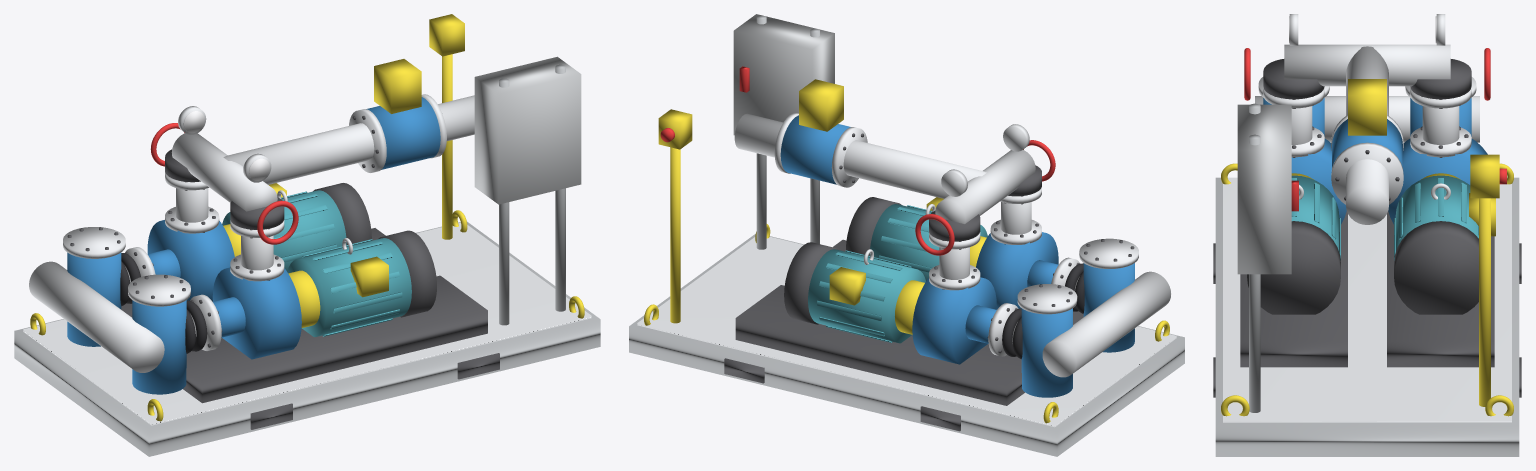
Rendered from pump_skid.glb.
The picture shows the model from 3 angles, left to right: view 1: azimuth 30°, elevation 25°; view 2: azimuth 150°, elevation 25°; view 3: azimuth 270°, elevation 25°; orthographic projection. The views are drawn at different scales.
Visible parts, largest first — view 1: Skid_ChannelFrame, Skid_DeckPlate, NEMA4X_VFDPanel, InertiaPad_A, CommonSuctionHeader, MainDischargeHeader, TEFC_Motor_A, PumpVolute_A, DischargeManifold, PumpVolute_B, BasketStrainer_A, Magmeter_Body (+26 smaller); view 2: Skid_ChannelFrame, Skid_DeckPlate, InertiaPad_B, NEMA4X_VFDPanel, MainDischargeHeader, CommonSuctionHeader, TEFC_Motor_B, PumpVolute_B, DischargeManifold, PumpVolute_A, BasketStrainer_B, Magmeter_Body (+27 smaller); view 3: Skid_DeckPlate, Skid_ChannelFrame, NEMA4X_VFDPanel, FanCowl_B, InertiaPad_A, InertiaPad_B, DischargeManifold, FanCowl_A, MainDischargeHeader, TEFC_Motor_B, EStop_Stanchion, Magmeter_Transmitter (+25 smaller).
Boxes of the visible parts, x1=… form: Skid_ChannelFrame: x1=14, y1=221, x2=600, y2=456; Skid_DeckPlate: x1=23, y1=222, x2=591, y2=425; NEMA4X_VFDPanel: x1=474, y1=56, x2=581, y2=204; InertiaPad_A: x1=183, y1=275, x2=487, y2=403; CommonSuctionHeader: x1=29, y1=261, x2=164, y2=372; MainDischargeHeader: x1=223, y1=95, x2=474, y2=184; TEFC_Motor_A: x1=287, y1=238, x2=411, y2=337; PumpVolute_A: x1=212, y1=267, x2=301, y2=359; DischargeManifold: x1=171, y1=133, x2=277, y2=211; PumpVolute_B: x1=147, y1=220, x2=234, y2=301; BasketStrainer_A: x1=132, y1=300, x2=186, y2=394; Magmeter_Body: x1=366, y1=97, x2=440, y2=169; Skid_ChannelFrame: x1=629, y1=234, x2=1184, y2=456; Skid_DeckPlate: x1=637, y1=236, x2=1176, y2=427; InertiaPad_B: x1=735, y1=285, x2=1024, y2=405; NEMA4X_VFDPanel: x1=733, y1=14, x2=834, y2=135; MainDischargeHeader: x1=734, y1=113, x2=986, y2=198; CommonSuctionHeader: x1=1042, y1=271, x2=1170, y2=377; TEFC_Motor_B: x1=808, y1=249, x2=925, y2=343; PumpVolute_B: x1=912, y1=277, x2=996, y2=364; DischargeManifold: x1=935, y1=150, x2=1035, y2=223; PumpVolute_A: x1=976, y1=232, x2=1058, y2=309; BasketStrainer_B: x1=1021, y1=308, x2=1072, y2=397; Magmeter_Body: x1=780, y1=115, x2=850, y2=184; Skid_DeckPlate: x1=1223, y1=177, x2=1511, y2=422; Skid_ChannelFrame: x1=1215, y1=177, x2=1519, y2=456; NEMA4X_VFDPanel: x1=1237, y1=104, x2=1291, y2=274; FanCowl_B: x1=1394, y1=221, x2=1478, y2=314; InertiaPad_A: x1=1240, y1=211, x2=1347, y2=367; InertiaPad_B: x1=1387, y1=211, x2=1494, y2=367; DischargeManifold: x1=1284, y1=44, x2=1450, y2=86; FanCowl_A: x1=1247, y1=221, x2=1340, y2=314; MainDischargeHeader: x1=1346, y1=46, x2=1388, y2=224; TEFC_Motor_B: x1=1395, y1=175, x2=1478, y2=250; EStop_Stanchion: x1=1479, y1=198, x2=1490, y2=406; Magmeter_Transmitter: x1=1348, y1=79, x2=1386, y2=135.
Size of the model in its own units: 2.42 by 1.38 by 1.26.
